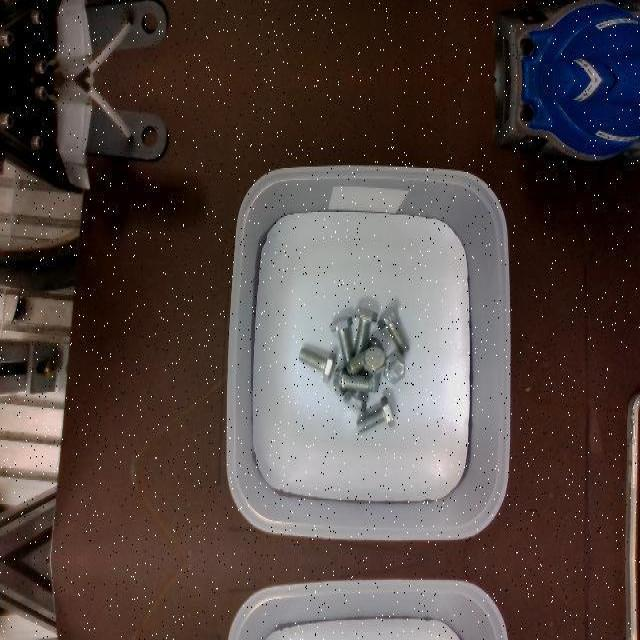screw: (356, 394, 395, 432), (377, 307, 409, 353), (299, 348, 336, 384), (353, 306, 377, 356), (330, 315, 353, 365), (363, 346, 385, 392), (384, 352, 405, 384)
